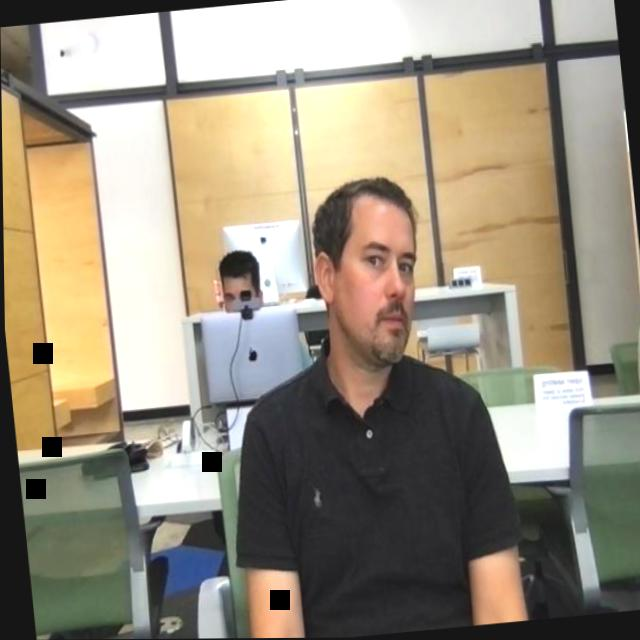NO-Mask: (304, 174, 429, 374)
